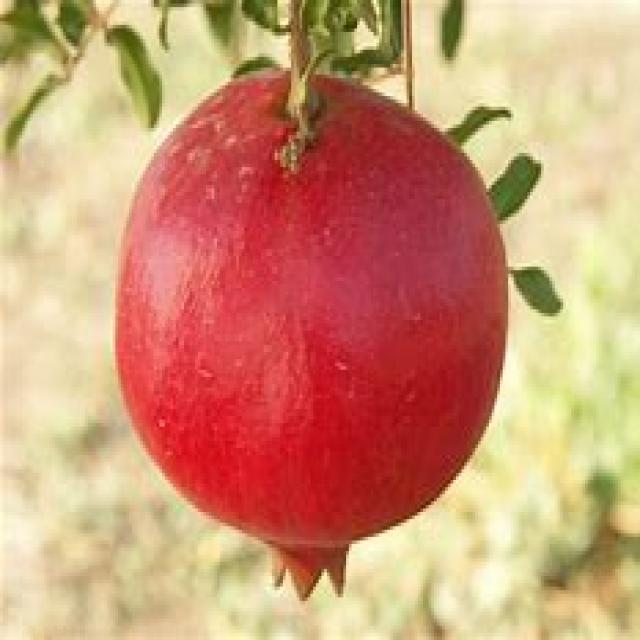Pomegranate: (116, 67, 509, 601)
